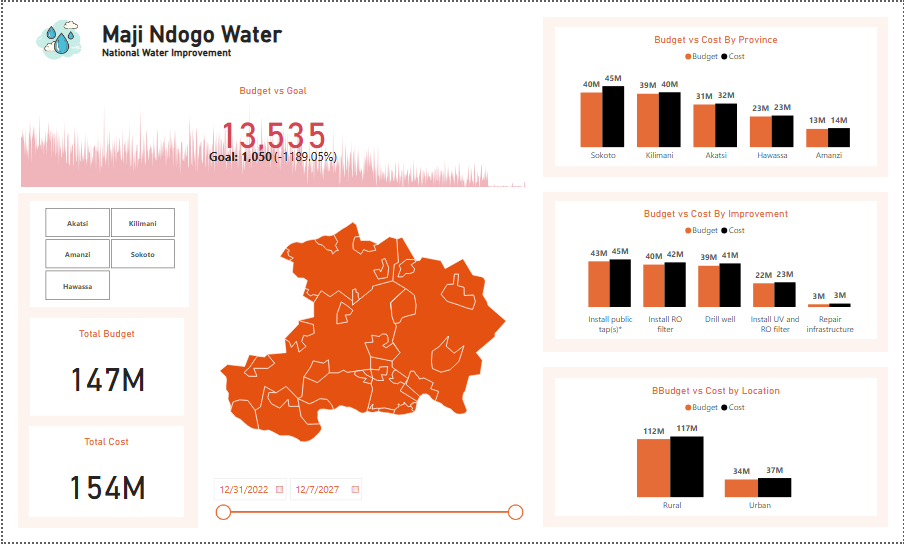

What the dashboard file says about the page in this screenshot:
{"tool":"powerbi","page":{"name":"Budget Vs Cost","canvas":[1500,901],"ordinal":1},"visuals":[{"type":"shape","box":[900,25,575,266.7],"z":0},{"type":"shape","box":[900,316.7,575,266.7],"z":1000},{"type":"shape","box":[900,608.3,575,266.7],"z":2000},{"type":"shape","box":[25,316.7,300,560],"z":3000},{"type":"shapeMap","fields":{"Value":["project_progress.pct_project_complete"],"Category":["location.town_name"]},"box":[325,316.7,550,466.7],"z":4000},{"type":"textbox","box":[160,25,330,101.7],"z":5000},{"type":"image","box":[25,11.7,135,101.7],"z":6000},{"type":"cardVisual","title":"Total Budget","fields":{"Data":["Sum(project_progress.budgeted_improvement_cost)"]},"box":[45,526.7,256.7,163.3],"z":7000},{"type":"kpi","title":"Budget vs Goal","fields":{"Indicator":["project_progress.cumulative_cost"],"Goal":["project_progress.cumulative_budget"],"TrendLine":["project_progress.date_of_completion"]},"box":[25,126.7,850,191.7],"z":8000},{"type":"slicer","title":"Province","fields":{"Values":["location.province_name"]},"box":[45,331.7,265,176.7],"z":9000},{"type":"clusteredColumnChart","title":"Budget vs Cost By Province","fields":{"Y":["Sum(project_progress.budgeted_improvement_cost)","Sum(project_progress.cost)"],"Category":["location.province_name"]},"box":[920,41.7,536.7,231.7],"z":10000},{"type":"clusteredColumnChart","title":"Budget vs Cost By Improvement","fields":{"Category":["project_progress.aggregated_improvements"],"Y":["Sum(project_progress.budgeted_improvement_cost)","Sum(project_progress.cost)"]},"box":[920,331.7,536.7,230],"z":11000},{"type":"cardVisual","title":"Total Cost","fields":{"Data":["Sum(project_progress.cost)"]},"box":[43.3,706.7,258.3,151.7],"z":12000},{"type":"clusteredColumnChart","title":"BBudget vs Cost by Location","fields":{"Y":["Sum(project_progress.budgeted_improvement_cost)","Sum(project_progress.cost)"],"Category":["location.location_type"]},"box":[920,626.7,536.7,230],"z":13000},{"type":"slicer","title":"Date of completion","fields":{"Values":["date.Year"]},"box":[341.7,783.3,533.3,91.7],"z":14000}]}

Visuals, with their boxes in screenshot pixels (x1, y1, x2, y2), scaled from the page's 1500x901 canvas onto the 904x547 screenshot:
shape: (542, 15, 889, 177)
shape: (542, 192, 889, 354)
shape: (542, 369, 889, 531)
shape: (15, 192, 196, 532)
shapeMap - project_progress.pct_project_complete x location.town_name: (196, 192, 527, 476)
textbox: (96, 15, 295, 77)
image: (15, 7, 96, 69)
"Total Budget" cardVisual: (27, 320, 182, 419)
"Budget vs Goal" kpi: (15, 77, 527, 193)
"Province" slicer: (27, 201, 187, 309)
"Budget vs Cost By Province" clusteredColumnChart: (554, 25, 878, 166)
"Budget vs Cost By Improvement" clusteredColumnChart: (554, 201, 878, 341)
"Total Cost" cardVisual: (26, 429, 182, 521)
"BBudget vs Cost by Location" clusteredColumnChart: (554, 380, 878, 520)
"Date of completion" slicer: (206, 476, 527, 531)
